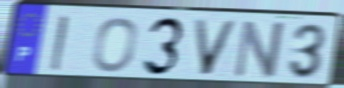3: (138, 15, 188, 78), (285, 22, 328, 81)
I: (48, 14, 70, 73)
N: (231, 18, 288, 80)
O: (90, 16, 140, 74)
V: (192, 18, 241, 77)
